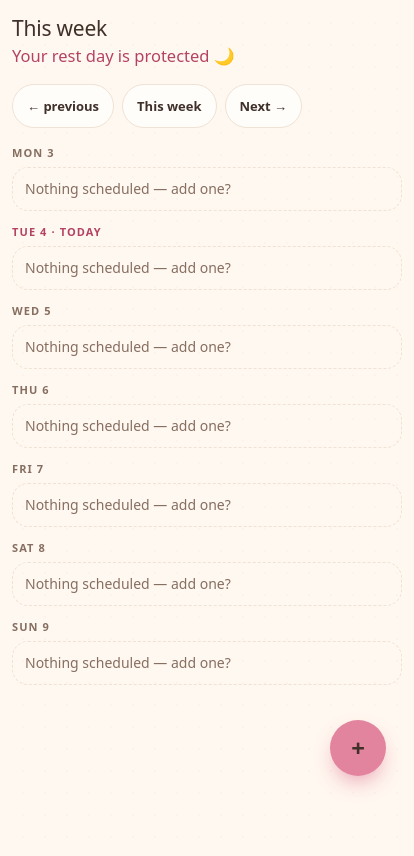
CalendarView › the week swipe › still swipes after the browser cancels a scroll
The width and height of the screenshot is (414, 856).
Press the mouse on the list at point(207, 414), box [12,144,402,685]
Check: the heading "Tue 4 · today" is shown, box [12,224,102,239]
Press the mouse on the list at point(207, 414), box [12,144,402,685]
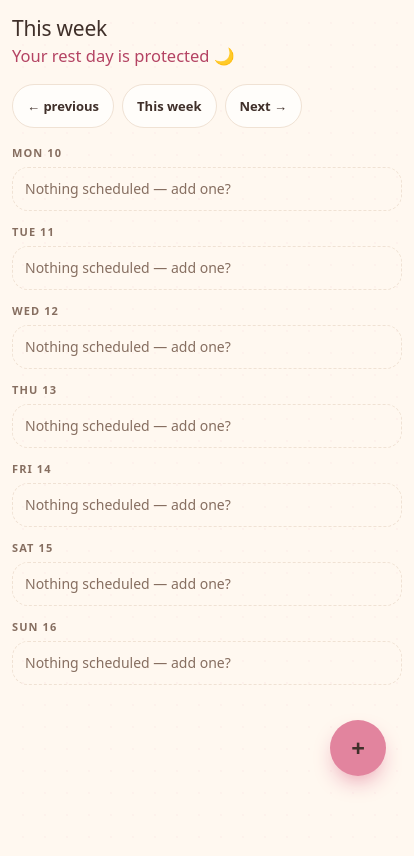
Check: the heading "Tue 4 · today" is gone
